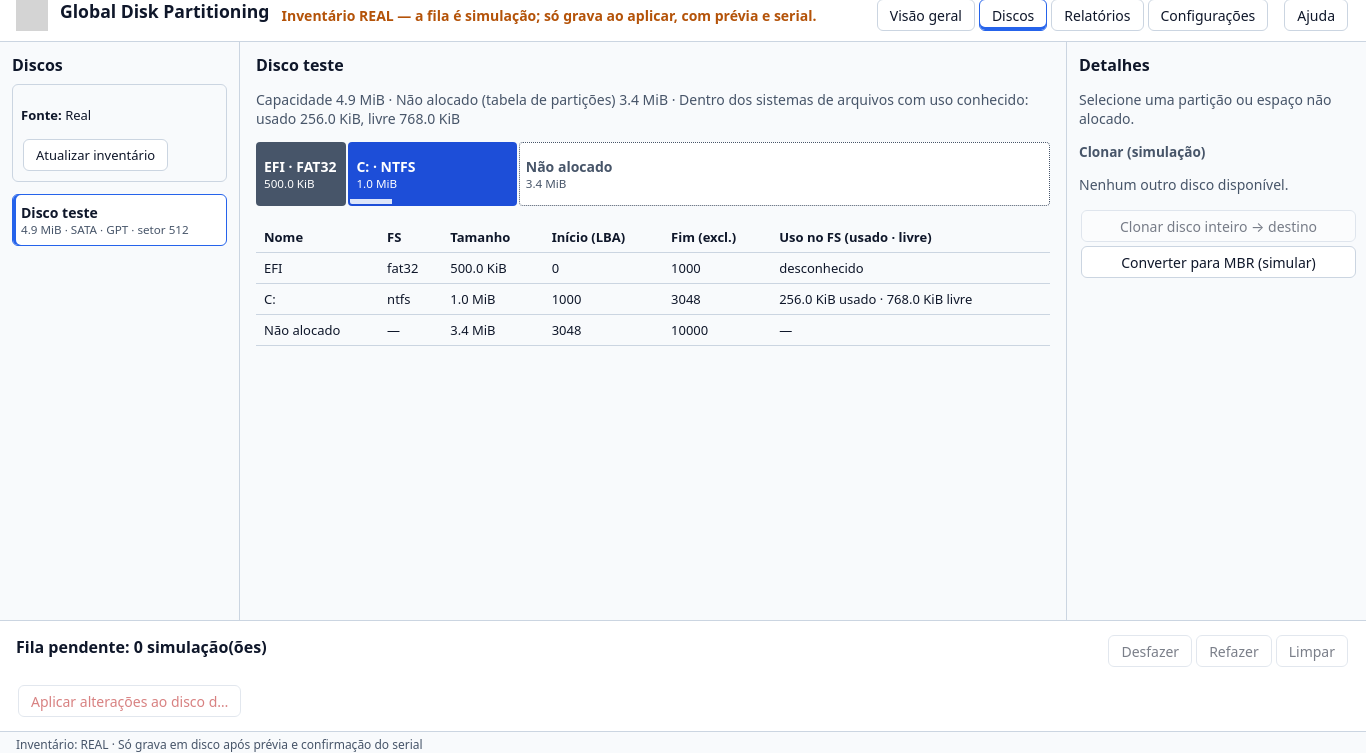
Test case: enfileira exclusão, mostra bloqueio vindo do planejador e desfaz
Click the button labelled "C: · NTFS 1.0 MiB": coordinates (433, 174) top-left (348, 142), bottom-right (517, 206)
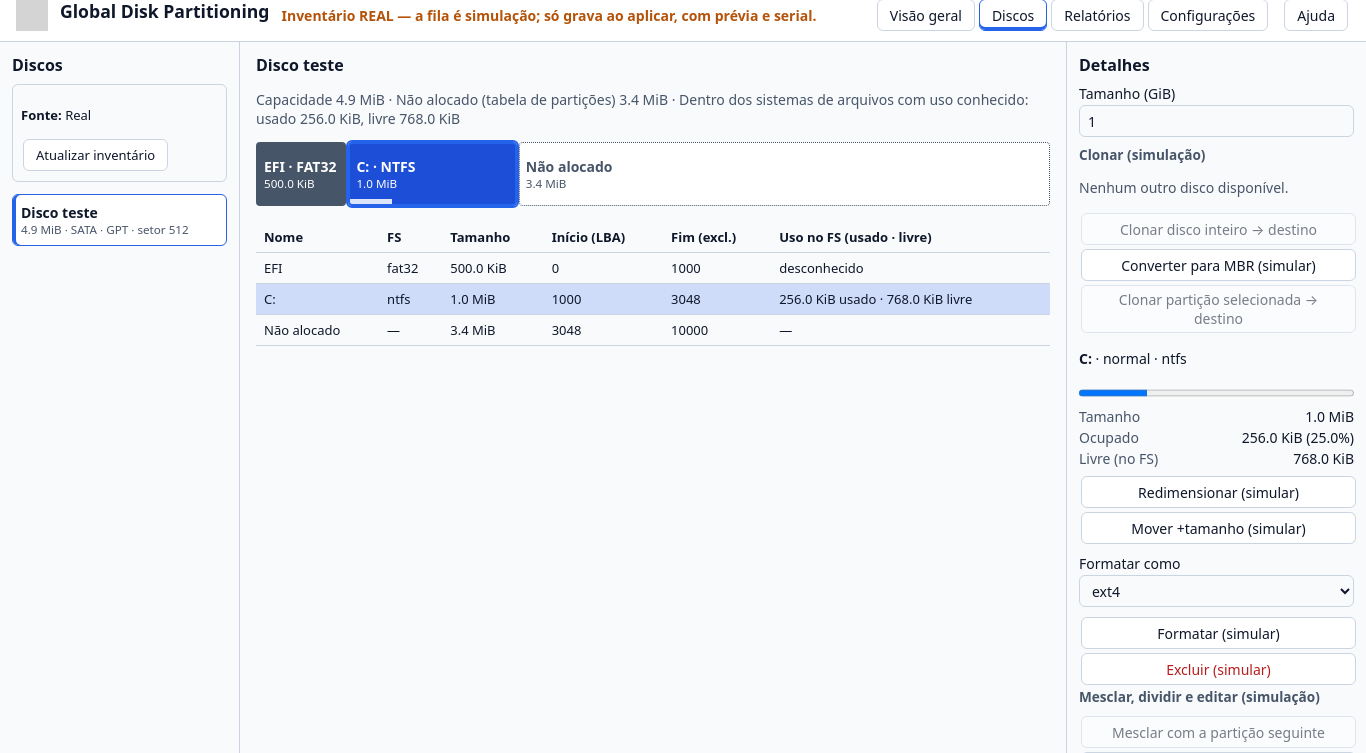
Click the button "Excluir (simular)": coordinates (1218, 669) top-left (1081, 653), bottom-right (1356, 685)
(page scrolled)
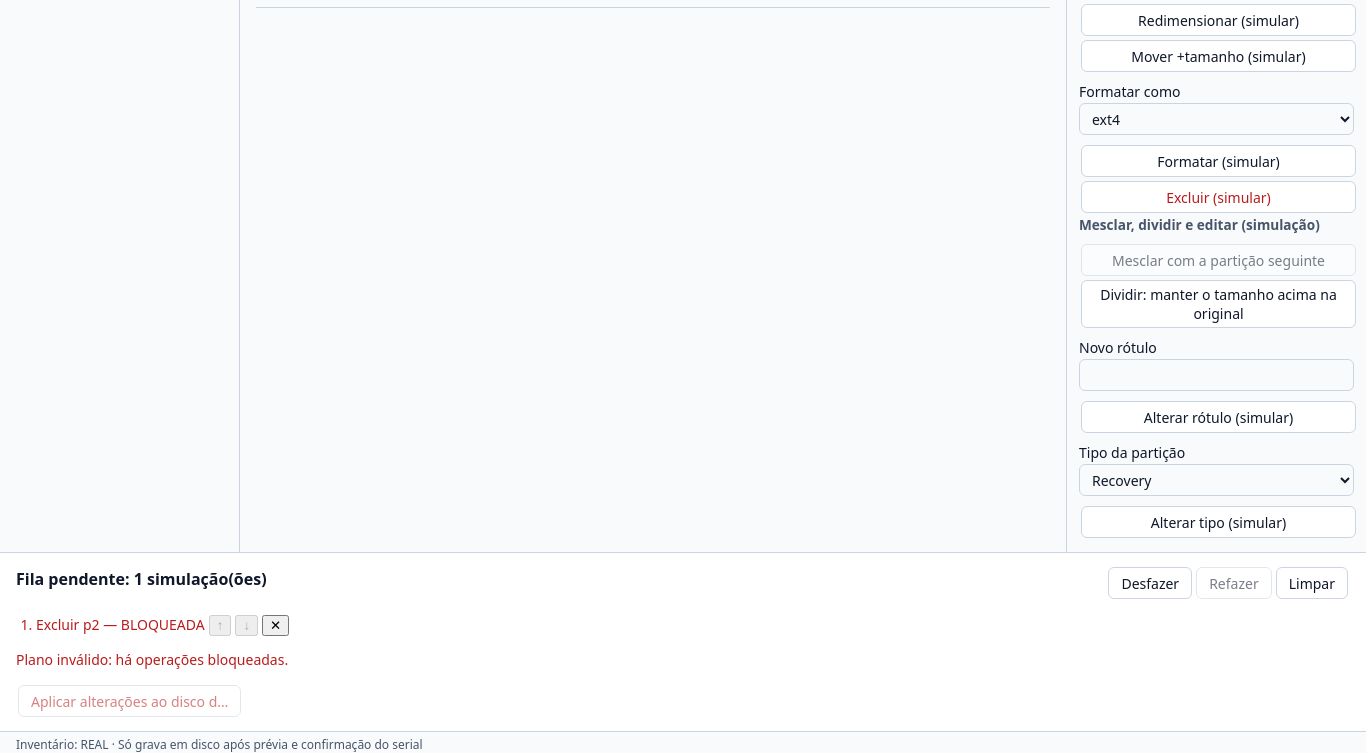
Now the list item "Excluir p2 — BLOQUEADA ↑ ↓ ✕" is shown, box top-left (36, 615), bottom-right (289, 636)
Click the button "Desfazer": coordinates (1150, 583) top-left (1108, 567), bottom-right (1192, 599)
(page scrolled)
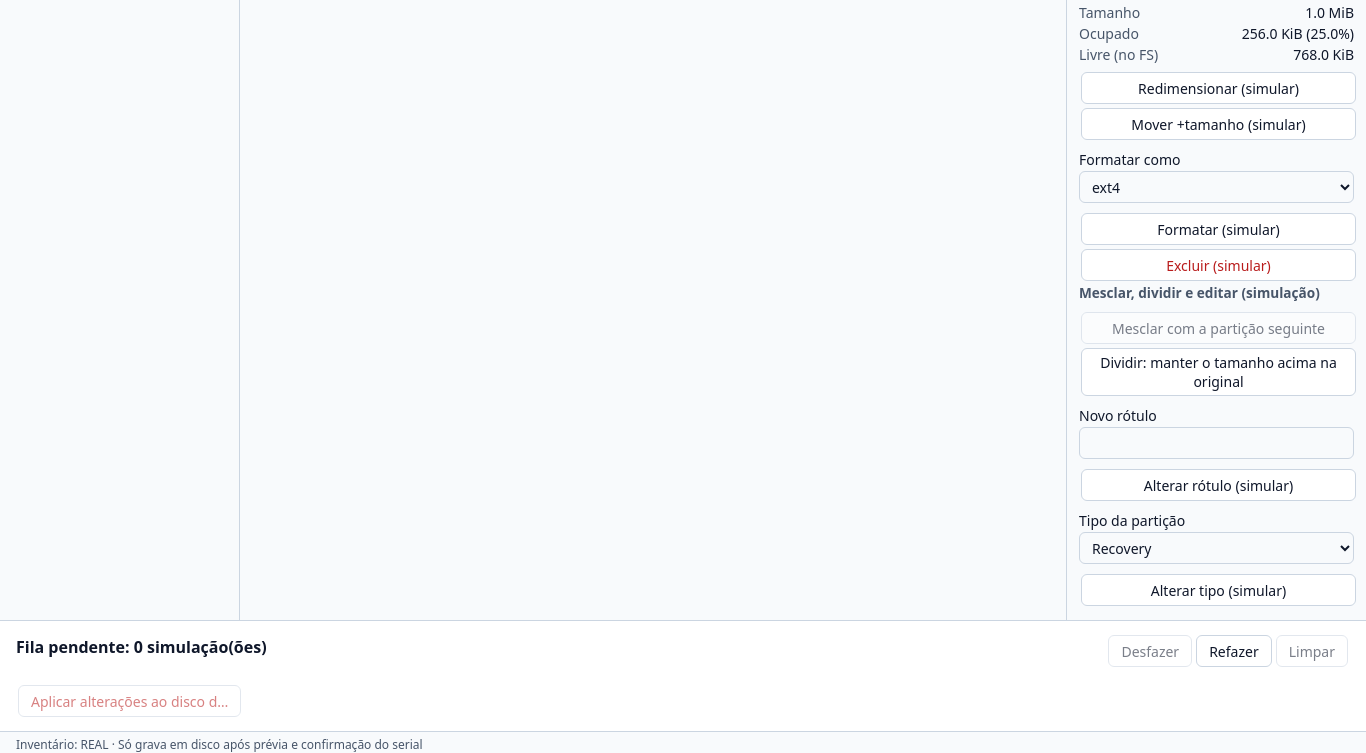
Now the list item "BLOQUEADA" is gone
